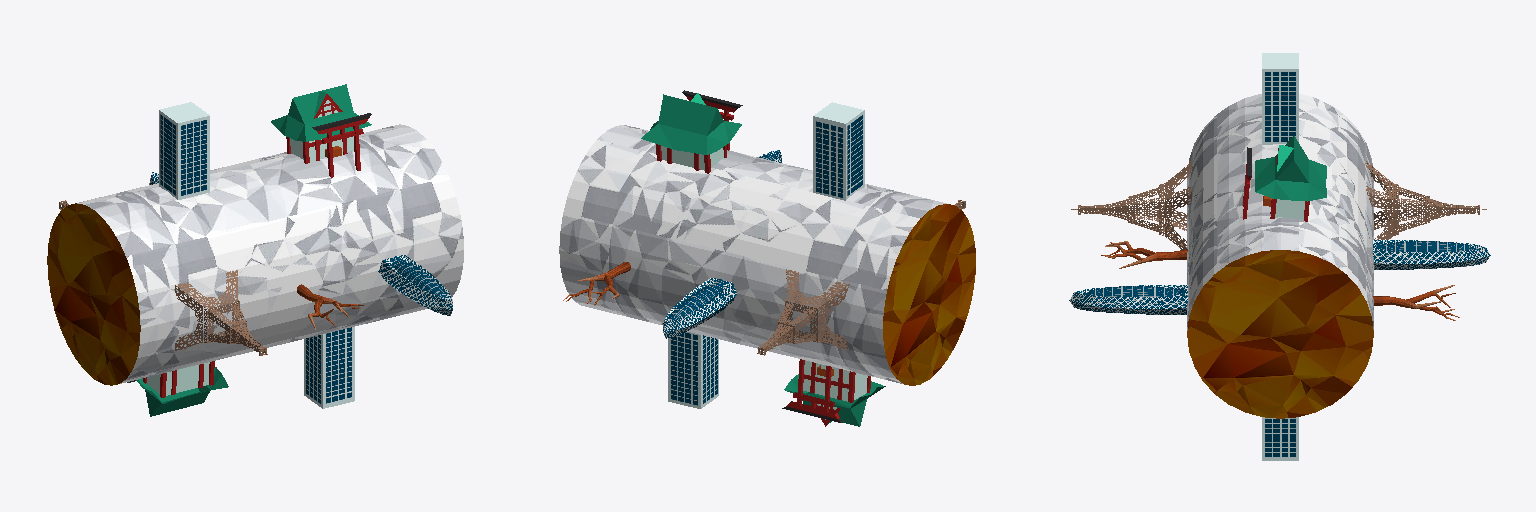
3 views of the same model, side by side, from view 1: azimuth 30°, elevation 25°; view 2: azimuth 150°, elevation 25°; view 3: azimuth 270°, elevation 25° (orthographic).
Parts seen in each view (by area): view 1: model_map_winter:pCylinder1, group5 model_mapobj_biru:pCube2, group5 model_mapobj_biru1:pCube2, model_mapobj_tera:group12 model_mapobj_tera:pCube1 model_mapobj_, model_mapobj_hal:group1 model_mapobj_hal:group2 model_mapobj_hal, model_mapobj_tou:group1 model_mapobj_tou:pCube1 model_mapobj_tou, model_mapobj_tera1:group12 model_mapobj_tera1:pCube1 model_mapob, model_mapobj_tera:group12 model_mapobj_tera:group13 model_mapobj, model_mapobj_tera1:group12 model_mapobj_tera1:pCube2 model_mapob, model_mapobj_tou:group1 model_mapobj_tou:pCube2 model_mapobj_tou, model_mapobj_tera:group12 model_mapobj_tera:pCube2 model_mapobj_; view 2: model_map_winter:pCylinder1, group5 model_mapobj_biru:pCube2, model_mapobj_tera:group12 model_mapobj_tera:pCube1 model_mapobj_, group5 model_mapobj_biru1:pCube2, model_mapobj_tou1:group1 model_mapobj_tou1:pCube1 group5 model_m, model_mapobj_hal1:group2 group5 model_mapobj_hal1:polySurface1, model_mapobj_tera1:group12 model_mapobj_tera1:group13 model_mapo, model_mapobj_tera1:group12 model_mapobj_tera1:pCube1 model_mapob, model_mapobj_tera1:group12 model_mapobj_tera1:pCube2 model_mapob, model_mapobj_hal1:group2 model_mapobj_hal1:pSphere1 group5 model, model_mapobj_tera:group12 model_mapobj_tera:pCube2 model_mapobj_, model_mapobj_tou1:group1 model_mapobj_tou1:pCube2 group5 model_m (+1 smaller); view 3: model_map_winter:pCylinder1, group5 model_mapobj_biru:pCube2, model_mapobj_hal:group1 model_mapobj_hal:group2 model_mapobj_hal, model_mapobj_tera:group12 model_mapobj_tera:pCube1 model_mapobj_, model_mapobj_hal1:group2 group5 model_mapobj_hal1:polySurface1, group5 model_mapobj_biru1:pCube2, model_mapobj_tou:group1 model_mapobj_tou:pCube1 model_mapobj_tou, model_mapobj_tou1:group1 model_mapobj_tou1:pCube1 group5 model_m, model_mapobj_hal1:group2 model_mapobj_hal1:pSphere1 group5 model, model_wood_winter:group4 model_wood_winter:pCylinder1 model_wood, model_mapobj_tou1:group1 model_mapobj_tou1:pCube2 group5 model_m, model_mapobj_tou:group1 model_mapobj_tou:pCube2 model_mapobj_tou.
Boxes of the visible parts, x1=… form: model_map_winter:pCylinder1: x1=47, y1=124, x2=463, y2=385; group5 model_mapobj_biru:pCube2: x1=159, y1=102, x2=209, y2=199; group5 model_mapobj_biru1:pCube2: x1=304, y1=327, x2=354, y2=408; model_mapobj_tera:group12 model_mapobj_tera:pCube1 model_mapobj_: x1=271, y1=84, x2=371, y2=141; model_mapobj_hal:group1 model_mapobj_hal:group2 model_mapobj_hal: x1=378, y1=255, x2=452, y2=315; model_mapobj_tou:group1 model_mapobj_tou:pCube1 model_mapobj_tou: x1=175, y1=270, x2=239, y2=350; model_mapobj_tera1:group12 model_mapobj_tera1:pCube1 model_mapob: x1=136, y1=367, x2=228, y2=416; model_mapobj_tera:group12 model_mapobj_tera:group13 model_mapobj: x1=312, y1=113, x2=371, y2=177; model_mapobj_tera1:group12 model_mapobj_tera1:pCube2 model_mapob: x1=147, y1=362, x2=209, y2=395; model_mapobj_tou:group1 model_mapobj_tou:pCube2 model_mapobj_tou: x1=208, y1=304, x2=246, y2=343; model_mapobj_tera:group12 model_mapobj_tera:pCube2 model_mapobj_: x1=290, y1=136, x2=353, y2=161; model_map_winter:pCylinder1: x1=559, y1=125, x2=975, y2=385; group5 model_mapobj_biru:pCube2: x1=813, y1=102, x2=864, y2=200; model_mapobj_tera:group12 model_mapobj_tera:pCube1 model_mapobj_: x1=641, y1=94, x2=741, y2=154; group5 model_mapobj_biru1:pCube2: x1=668, y1=332, x2=718, y2=408; model_mapobj_tou1:group1 model_mapobj_tou1:pCube1 group5 model_m: x1=785, y1=269, x2=849, y2=349; model_mapobj_hal1:group2 group5 model_mapobj_hal1:polySurface1: x1=663, y1=278, x2=736, y2=338; model_mapobj_tera1:group12 model_mapobj_tera1:group13 model_mapo: x1=782, y1=359, x2=842, y2=422; model_mapobj_tera1:group12 model_mapobj_tera1:pCube1 model_mapob: x1=784, y1=374, x2=885, y2=426; model_mapobj_tera1:group12 model_mapobj_tera1:pCube2 model_mapob: x1=803, y1=360, x2=867, y2=401; model_mapobj_hal1:group2 model_mapobj_hal1:pSphere1 group5 model: x1=669, y1=279, x2=724, y2=319; model_mapobj_tera:group12 model_mapobj_tera:pCube2 model_mapobj_: x1=661, y1=146, x2=723, y2=170; model_mapobj_tou1:group1 model_mapobj_tou1:pCube2 group5 model_m: x1=778, y1=303, x2=815, y2=343; model_map_winter:pCylinder1: x1=1187, y1=94, x2=1373, y2=418; group5 model_mapobj_biru:pCube2: x1=1262, y1=53, x2=1298, y2=144; model_mapobj_hal:group1 model_mapobj_hal:group2 model_mapobj_hal: x1=1069, y1=285, x2=1187, y2=314; model_mapobj_tera:group12 model_mapobj_tera:pCube1 model_mapobj_: x1=1255, y1=136, x2=1326, y2=201; model_mapobj_hal1:group2 group5 model_mapobj_hal1:polySurface1: x1=1373, y1=240, x2=1490, y2=269; group5 model_mapobj_biru1:pCube2: x1=1262, y1=417, x2=1298, y2=460; model_mapobj_tou:group1 model_mapobj_tou:pCube1 model_mapobj_tou: x1=1159, y1=162, x2=1191, y2=249; model_mapobj_tou1:group1 model_mapobj_tou1:pCube1 group5 model_m: x1=1366, y1=161, x2=1398, y2=239; model_mapobj_hal1:group2 model_mapobj_hal1:pSphere1 group5 model: x1=1376, y1=241, x2=1473, y2=252; model_wood_winter:group4 model_wood_winter:pCylinder1 model_wood: x1=1119, y1=249, x2=1441, y2=308; model_mapobj_tou1:group1 model_mapobj_tou1:pCube2 group5 model_m: x1=1399, y1=187, x2=1429, y2=231; model_mapobj_tou:group1 model_mapobj_tou:pCube2 model_mapobj_tou: x1=1128, y1=187, x2=1158, y2=231.
Size of the model in its own units: 3.18 by 3.02 by 3.59.
Materials: 29 (7 with a texture image).